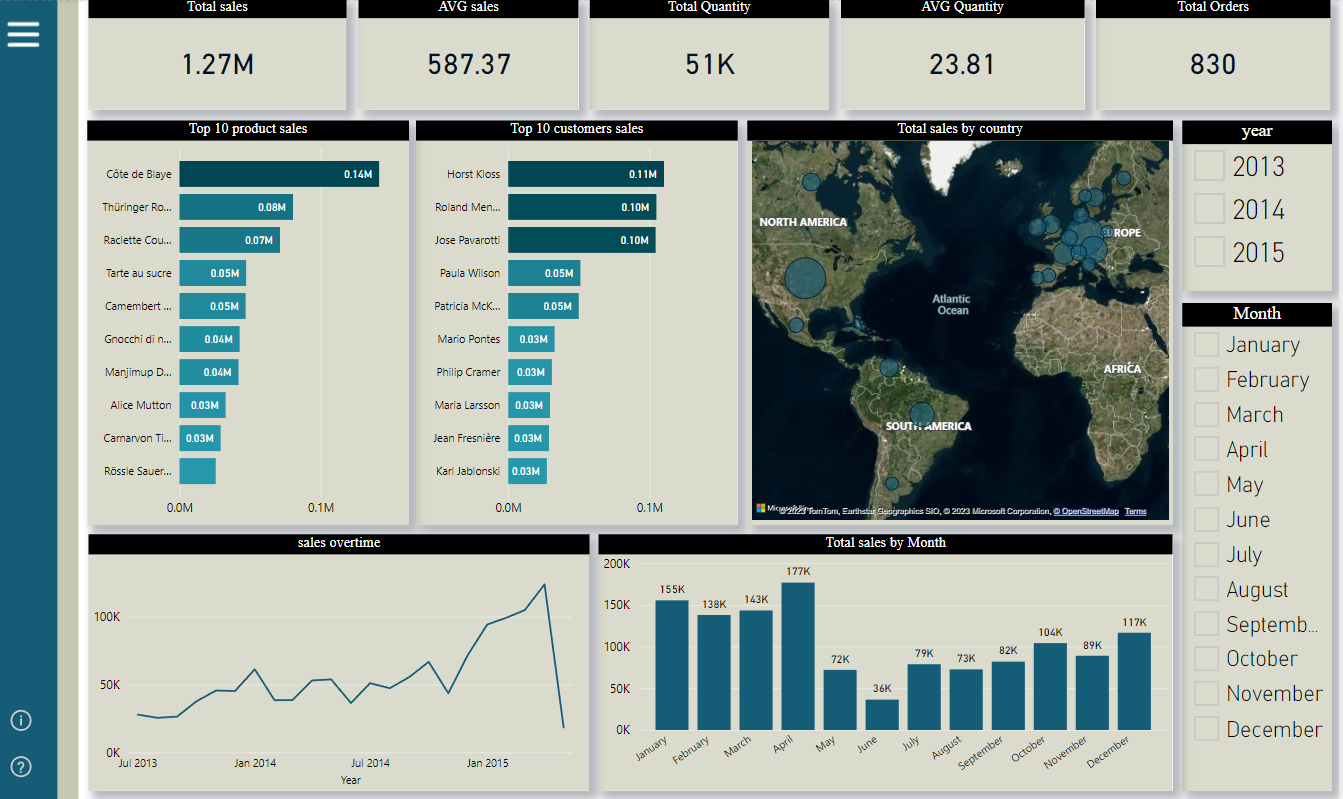

This screenshot's page, from the dashboard's own definition file:
{"tool":"powerbi","page":{"name":"sales","canvas":[1500,900],"ordinal":0},"visuals":[{"type":"card","title":"Total sales","fields":{"Values":["Measure.Total sales"]},"box":[103.2,0,287.8,125],"z":0},{"type":"actionButton","title":"Qs","box":[11.6,832.1,33.4,52.6],"z":0,"group":"g1"},{"type":"card","title":"Total Quantity","fields":{"Values":["Measure.Total Quantity"]},"box":[662.8,0,267.4,125],"z":1000},{"type":"actionButton","title":"Info","box":[11.6,779.5,33.4,52.6],"z":1000,"group":"g1"},{"type":"card","title":"Total Orders","fields":{"Values":["Measure.Total orders"]},"box":[1228.2,0,261.6,125],"z":2000},{"type":"actionButton","title":"Menu Button","box":[7,9.8,47.4,61.6],"z":2000,"group":"g1"},{"type":"card","title":"AVG Quantity","fields":{"Values":["Avg(orders.quantity)"]},"box":[943.3,0,271.8,125],"z":3000},{"type":"card","title":"AVG sales","fields":{"Values":["Avg(orders.Total gross)"]},"box":[404.1,0,245.6,125],"z":4000},{"type":"slicer","title":"year","fields":{"Values":["DimDate.Year"]},"box":[1324.1,136.6,167.2,190.4],"z":5000},{"type":"slicer","title":"Month","fields":{"Values":["DimDate.Date.Variation.Date Hierarchy.Month"]},"box":[1324.1,340.1,167.2,545.1],"z":6000},{"type":"lineChart","title":"sales overtime","fields":{"Y":["Measure.Total sales"],"Category":["DimDate.Date.Variation.Date Hierarchy.Year","DimDate.Date.Variation.Date Hierarchy.Quarter","DimDate.Date.Variation.Date Hierarchy.Month"]},"box":[103.2,598.8,559.6,286.3],"z":7000},{"type":"columnChart","fields":{"Category":["DimDate.Date.Variation.Date Hierarchy.Month"],"Y":["Measure.Total sales"]},"box":[673,598.8,641,286.3],"z":8000},{"type":"barChart","title":"Top 10 product sales","fields":{"Category":["products.productName"],"Y":["Measure.Total sales"]},"box":[101.7,136.6,359,452],"z":9000},{"type":"barChart","title":"Top 10 customers sales","fields":{"Y":["Measure.Total sales"],"Category":["customers.contactName"]},"box":[469.5,136.6,359,452],"z":10000},{"type":"map","fields":{"Category":["customers.country"],"Size":["Measure.Total sales"]},"box":[838.7,136.6,475.3,452],"z":11000},{"type":"group","id":"g1","title":"Menu Bar","box":[7,9.8,47.4,874.9],"z":12000}]}

Visuals, with their boxes on the page's 1500x900 design canvas (x1, y1, x2, y2). These are canvas units, not pixel positions in the 1343x799 screenshot, which may show the page scaled, cropped or inside an application window:
"Total sales" card: {"left": 103, "top": 0, "right": 391, "bottom": 125}
"Qs" actionButton: {"left": 12, "top": 832, "right": 45, "bottom": 885}
"Total Quantity" card: {"left": 663, "top": 0, "right": 930, "bottom": 125}
"Info" actionButton: {"left": 12, "top": 780, "right": 45, "bottom": 832}
"Total Orders" card: {"left": 1228, "top": 0, "right": 1490, "bottom": 125}
"Menu Button" actionButton: {"left": 7, "top": 10, "right": 54, "bottom": 71}
"AVG Quantity" card: {"left": 943, "top": 0, "right": 1215, "bottom": 125}
"AVG sales" card: {"left": 404, "top": 0, "right": 650, "bottom": 125}
"year" slicer: {"left": 1324, "top": 137, "right": 1491, "bottom": 327}
"Month" slicer: {"left": 1324, "top": 340, "right": 1491, "bottom": 885}
"sales overtime" lineChart: {"left": 103, "top": 599, "right": 663, "bottom": 885}
columnChart - DimDate.Date.Variation.Date Hierarchy.Month x Measure.Total sales: {"left": 673, "top": 599, "right": 1314, "bottom": 885}
"Top 10 product sales" barChart: {"left": 102, "top": 137, "right": 461, "bottom": 589}
"Top 10 customers sales" barChart: {"left": 470, "top": 137, "right": 828, "bottom": 589}
map - customers.country x Measure.Total sales: {"left": 839, "top": 137, "right": 1314, "bottom": 589}
"Menu Bar" group: {"left": 7, "top": 10, "right": 54, "bottom": 885}
